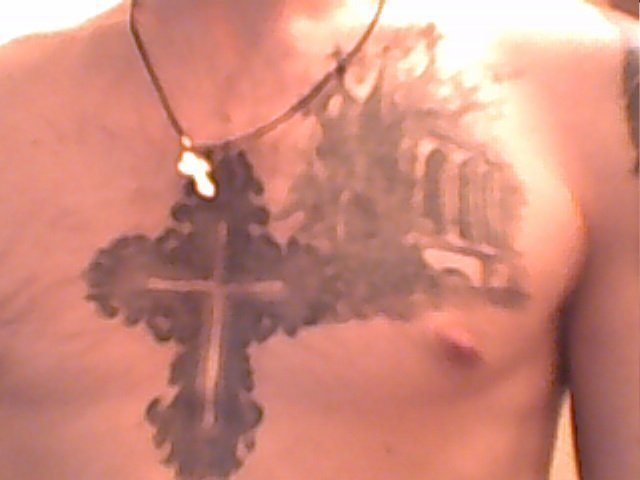tatu9_krest: (70, 130, 349, 480)
